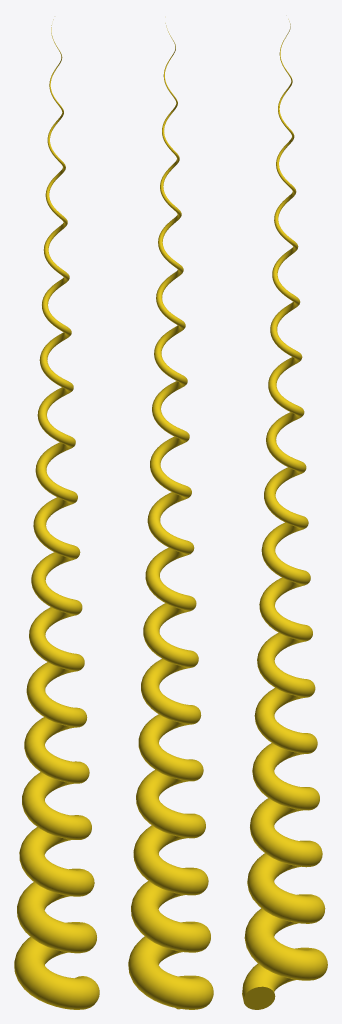
Rendered from spiral_extended.fbx.
The picture shows the model from 3 angles, left to right: view 1: azimuth 90°, elevation 25°; view 2: azimuth 150°, elevation 25°; view 3: azimuth 270°, elevation 25°; orthographic projection.
Parts seen in each view (by area): view 1: Spiral.001; view 2: Spiral.001; view 3: Spiral.001.
Boxes of the visible parts, box(x1,y1,x2,y2) form: Spiral.001: box(14, 19, 99, 1009); Spiral.001: box(128, 23, 213, 1009); Spiral.001: box(242, 19, 327, 1009).
Size of the model in its own units: 183 by 2383 by 186.
